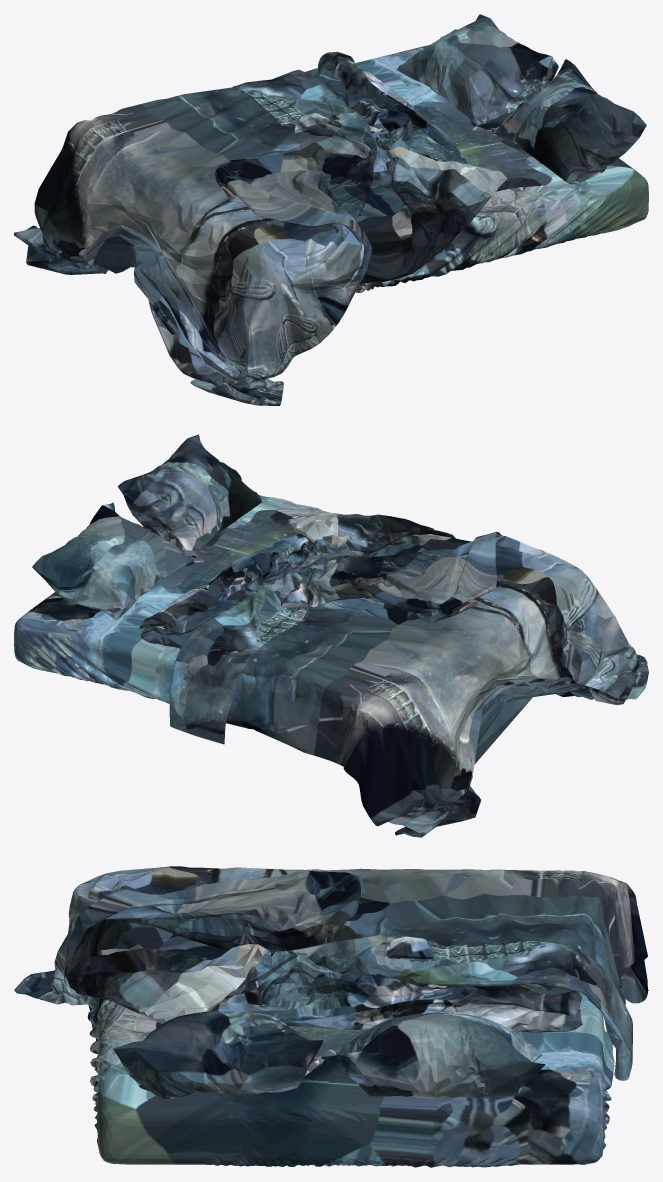
File: futuristic_room_12.obj
3 views of the same model, one above another, from view 1: azimuth 30°, elevation 25°; view 2: azimuth 150°, elevation 25°; view 3: azimuth 270°, elevation 25° (orthographic). The views are drawn at different scales.
Bounding box in the file's own units: 2.35 × 0.8264 × 2.22.
